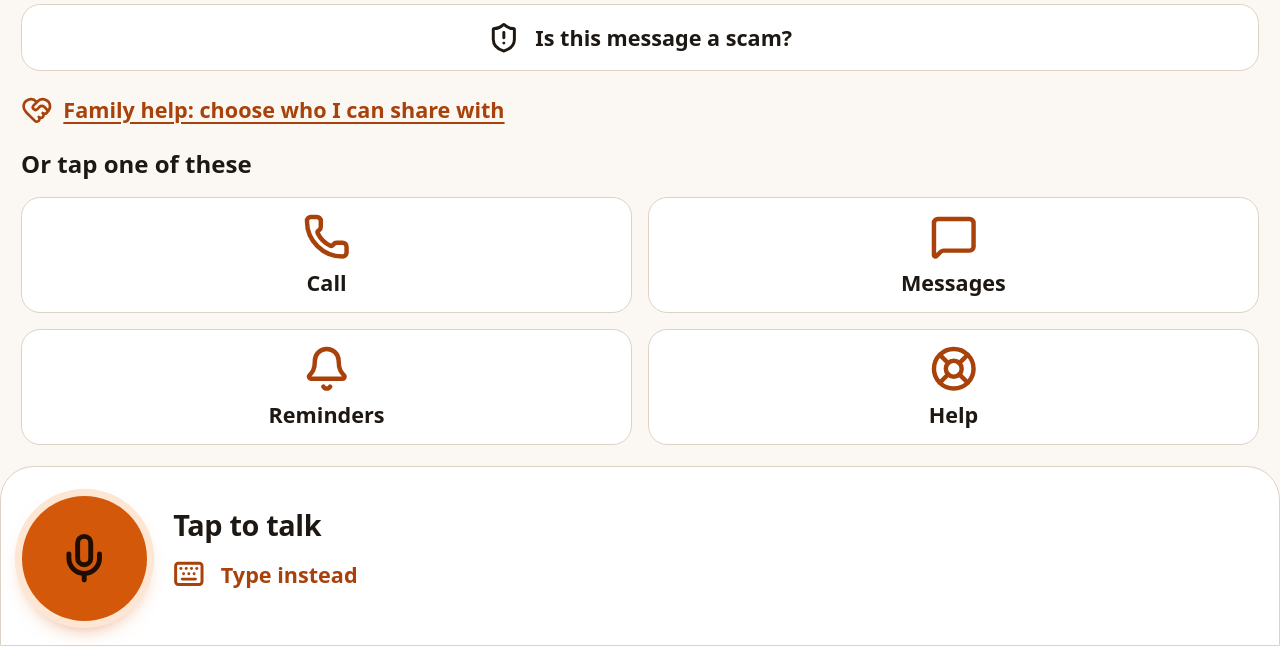
Test: Help Card to family › offers the note, and sending it goes through the normal confirm card
(page scrolled)
Click the button "Type instead": coordinates (265, 574) [158,541,373,608]
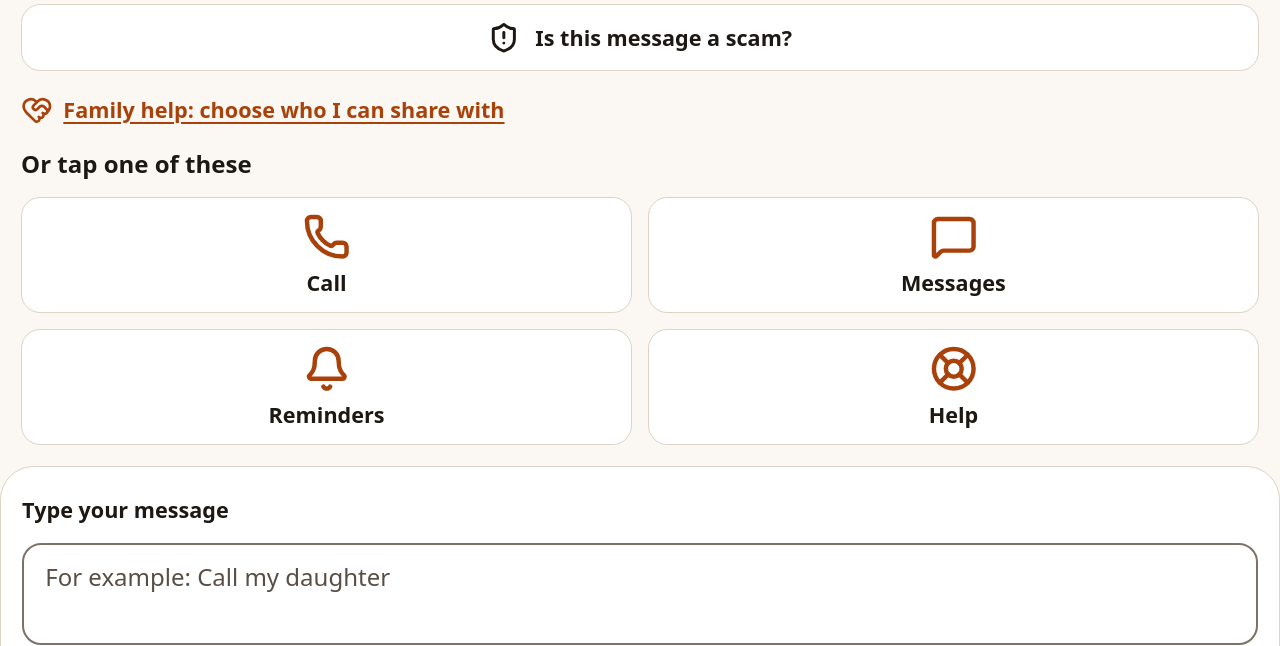
In the text box labelled "Type your message": coordinates (640, 594) [22,542,1258,645], type "I got a text about a parcel"
(page scrolled)
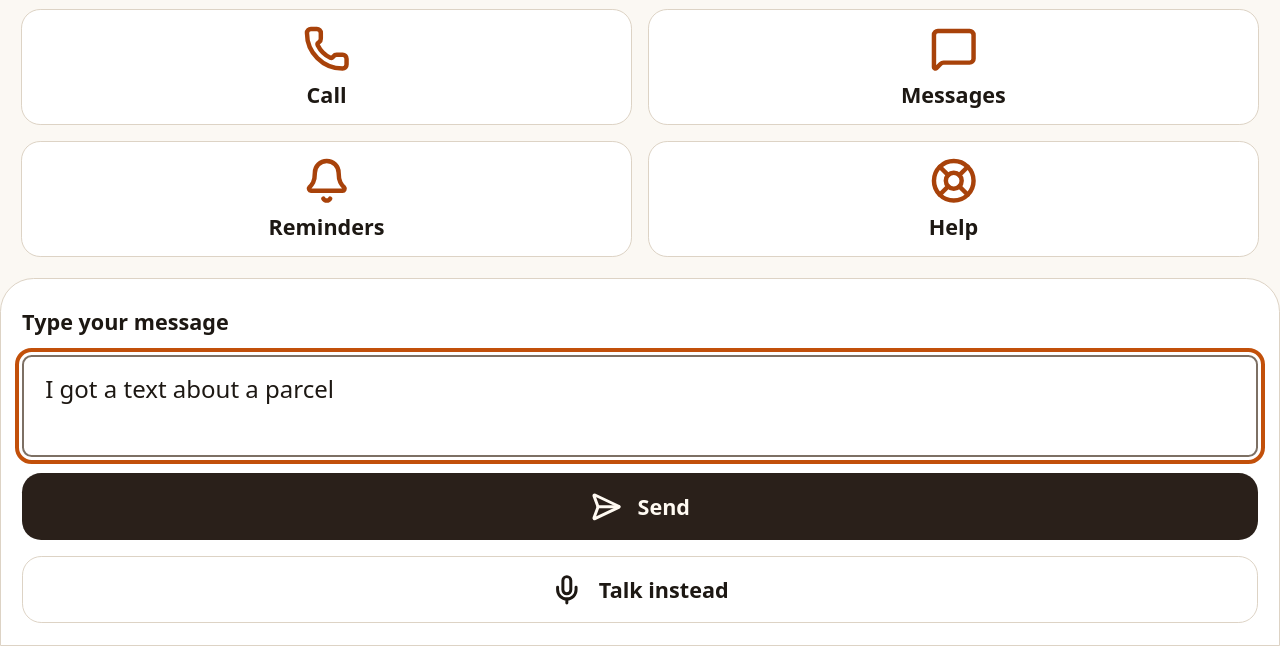
Click the button "Send": coordinates (640, 507) [22,473,1258,540]
(page scrolled)
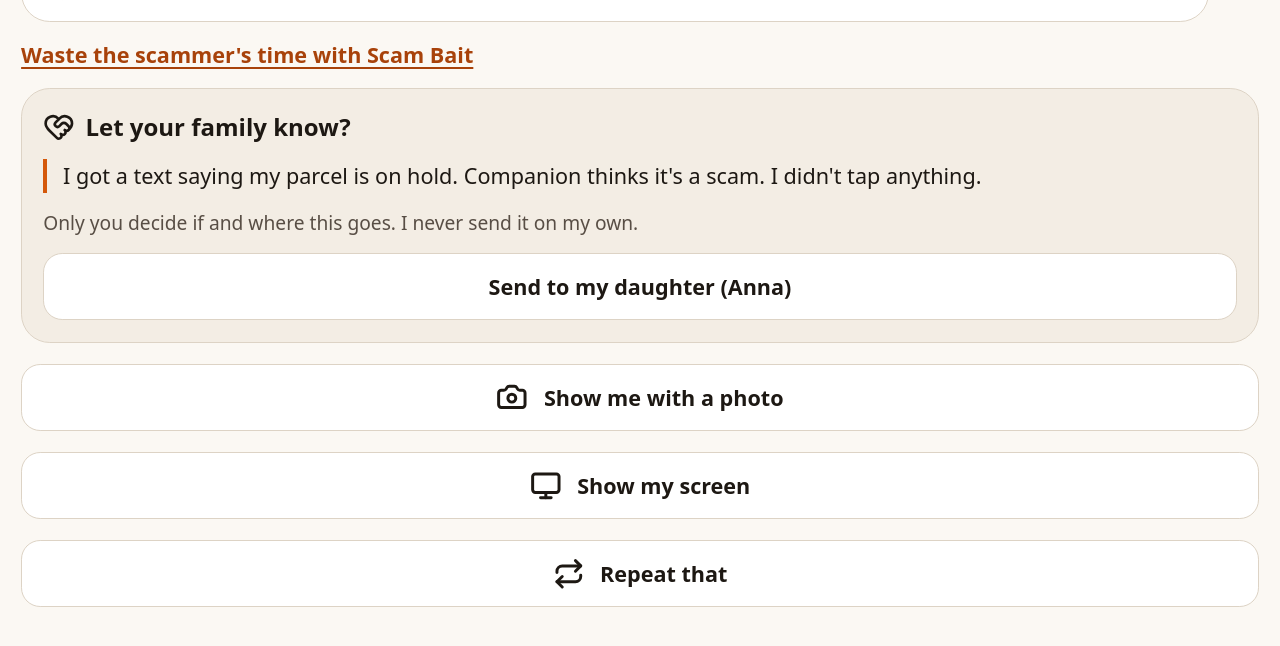
Now the heading "Let your family know?" is shown, box [43,110,351,143]
Click the button "Send to my daughter (Anna)": coordinates (640, 287) [43,253,1237,320]
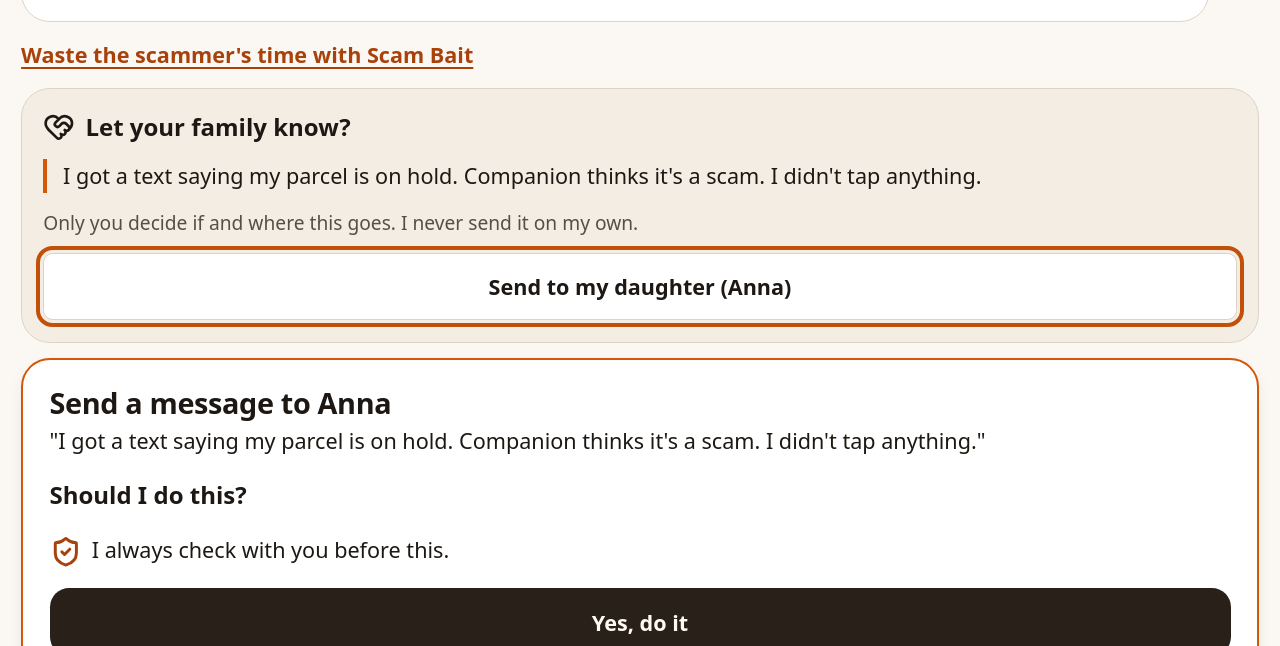
Now the text "Send a message to Anna" is shown, box [50,383,391,422]
